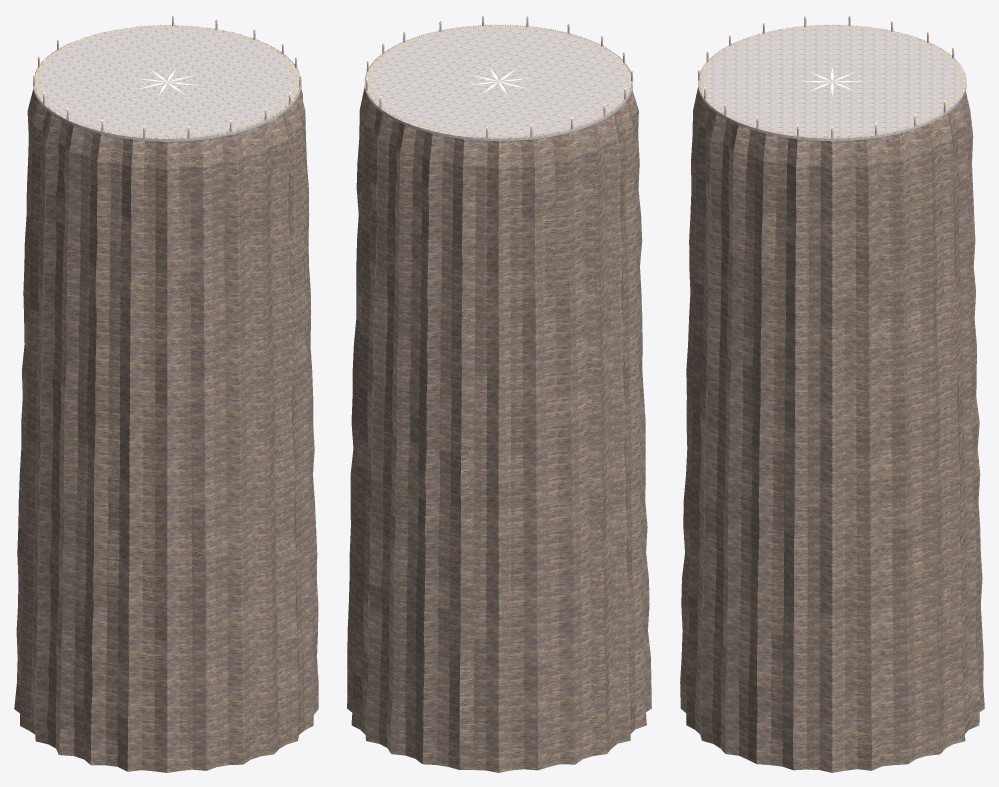
File: CloudPlatform.glb
3 views of the same model, side by side, from view 1: azimuth 30°, elevation 25°; view 2: azimuth 150°, elevation 25°; view 3: azimuth 270°, elevation 25° (orthographic).
Visible parts, largest first — view 1: CloudPlatform-rock, CloudPlatform-marble, CloudPlatform-gold; view 2: CloudPlatform-rock, CloudPlatform-marble, CloudPlatform-gold; view 3: CloudPlatform-rock, CloudPlatform-marble, CloudPlatform-gold.
Part boxes in pixels (x1,y1,x2,y2): CloudPlatform-rock: (14,89,318,772); CloudPlatform-marble: (33,25,301,141); CloudPlatform-gold: (33,15,301,136); CloudPlatform-rock: (347,87,651,772); CloudPlatform-marble: (364,24,632,141); CloudPlatform-gold: (365,15,633,136); CloudPlatform-rock: (680,86,984,772); CloudPlatform-marble: (698,24,966,141); CloudPlatform-gold: (697,15,961,136).
Size of the model in its own units: 317 by 735 by 318.
Materials: 6 (2 with a texture image).
